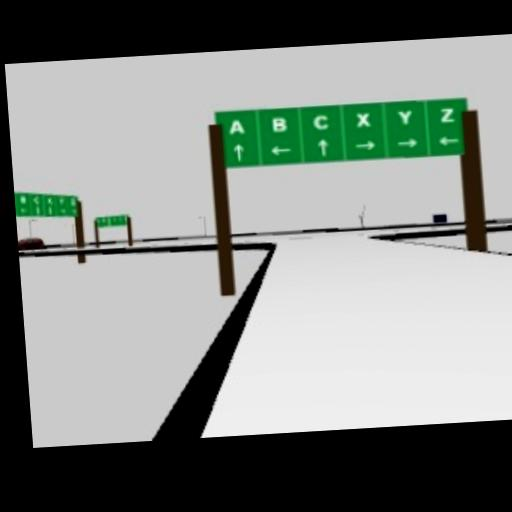A: (227, 118, 244, 135)
B: (271, 116, 286, 133)
C: (312, 113, 329, 130), (18, 195, 26, 204)
Left: (269, 143, 291, 155), (437, 135, 459, 145), (95, 217, 106, 225), (58, 206, 68, 214)
Right: (353, 138, 375, 150), (396, 137, 418, 148)
Straight: (316, 137, 329, 156), (232, 142, 244, 161), (30, 194, 40, 214), (46, 204, 54, 216)
X: (355, 112, 370, 127)
Y: (396, 109, 413, 124)
Z: (438, 107, 455, 122), (29, 192, 39, 204), (68, 195, 76, 206), (57, 197, 65, 206), (45, 197, 53, 205)
